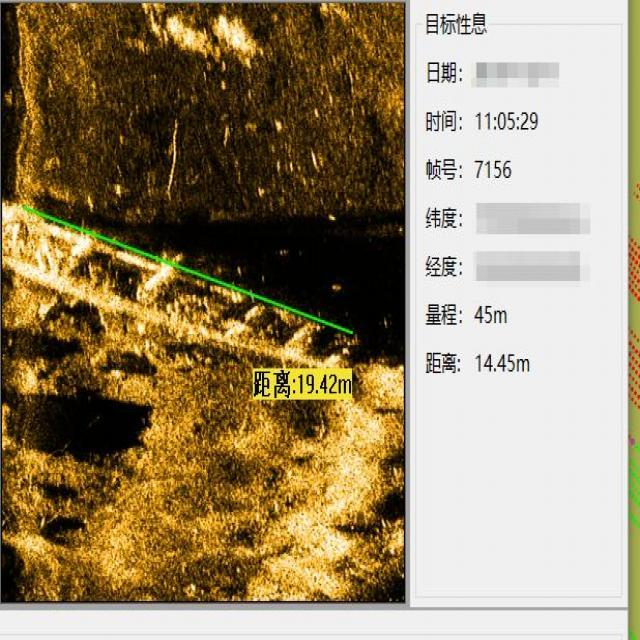shipwreck: (0, 193, 351, 380)
